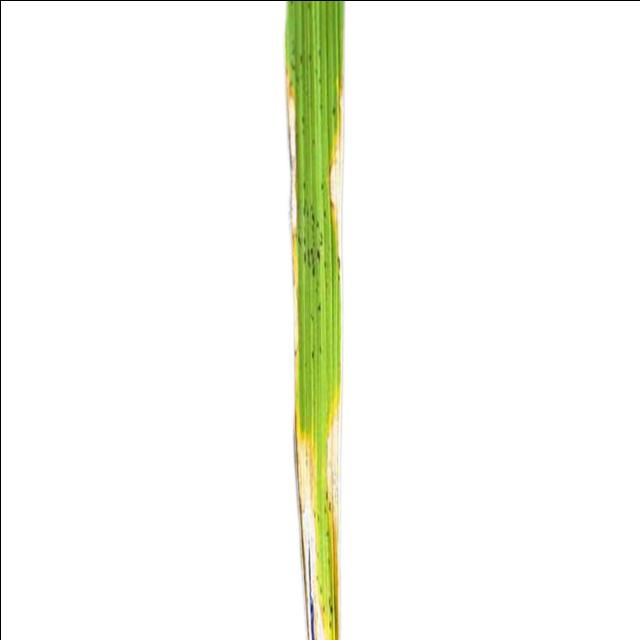Leaf scald: (240, 0, 386, 640)
